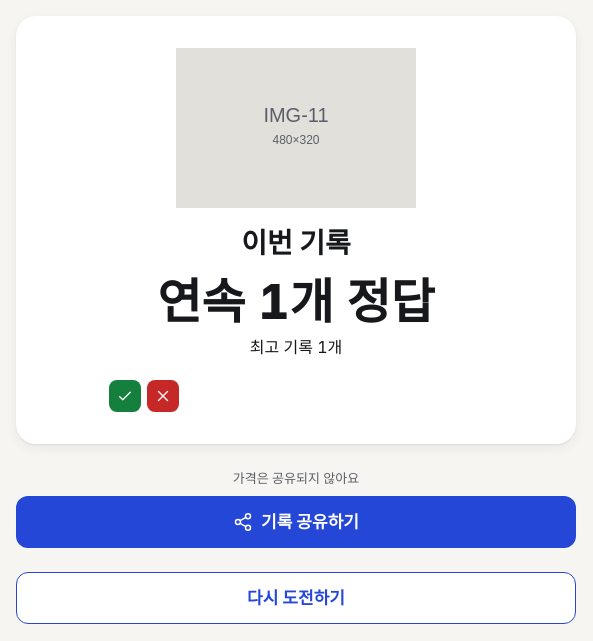
Test case: ResultView and ShareBlock (T-10, S-05) › shows copy and download fallback buttons when Web Share is unavailable
The image size is (593, 641).
Click the button "기록 공유하기" at (296, 522), box 16,496 -> 576,548
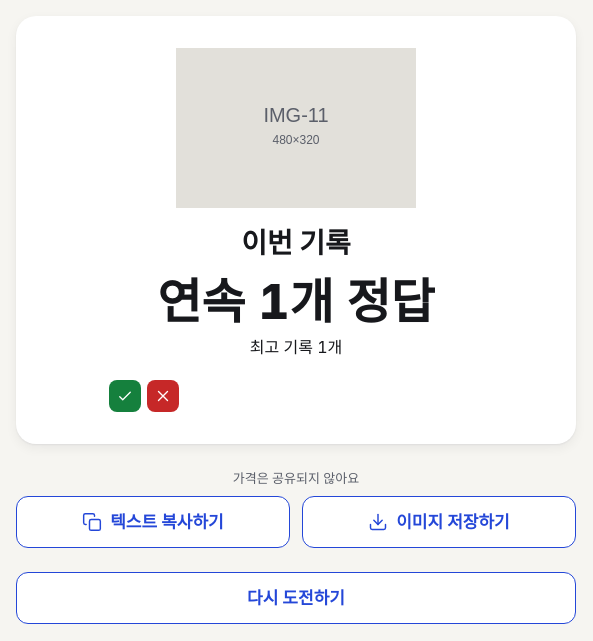
Expected: the button "텍스트 복사하기" is shown, 16,496 -> 290,548
Expected: the button "이미지 저장하기" is shown, 302,496 -> 576,548
